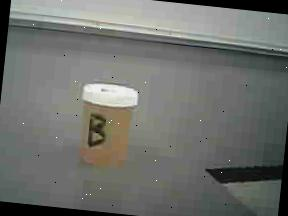Bottle B: (72, 77, 142, 172)
